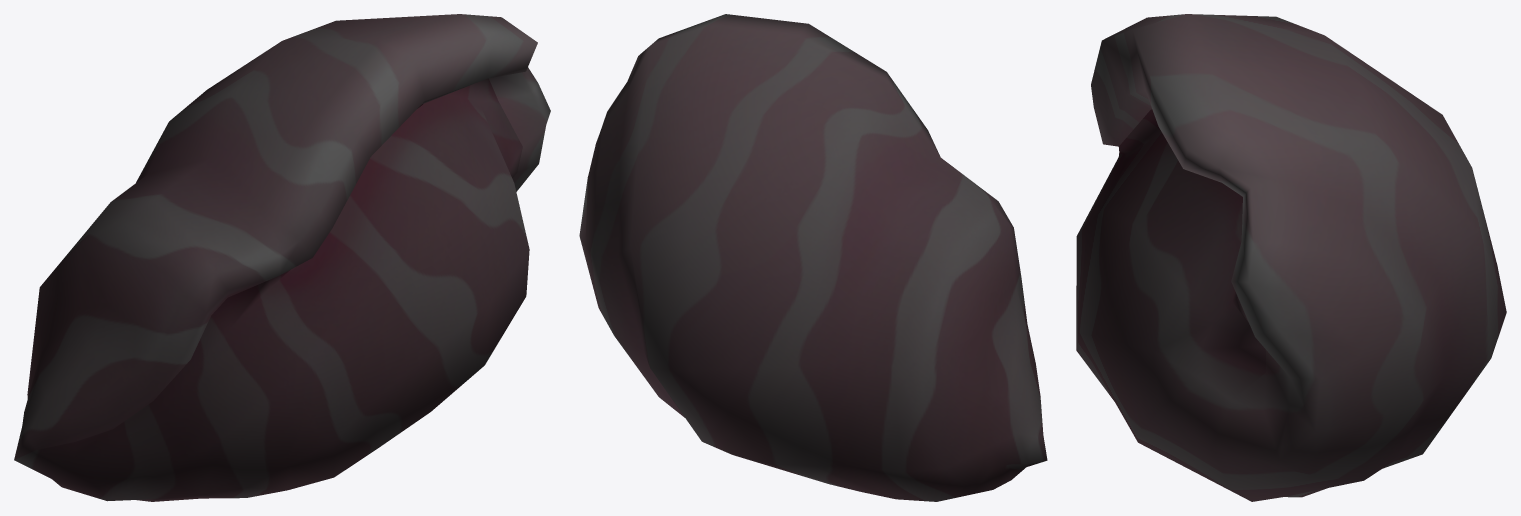
File: obj_harvest_resource_slimyclam.fbx
3 views of the same model, side by side, from view 1: azimuth 30°, elevation 25°; view 2: azimuth 150°, elevation 25°; view 3: azimuth 270°, elevation 25° (orthographic). The views are drawn at different scales.
Visible parts, largest first — view 1: obj_harvest_resource_slimyclam; view 2: obj_harvest_resource_slimyclam; view 3: obj_harvest_resource_slimyclam.
Boxes of the visible parts, x1=… form: obj_harvest_resource_slimyclam: x1=14, y1=14, x2=550, y2=501; obj_harvest_resource_slimyclam: x1=579, y1=14, x2=1047, y2=501; obj_harvest_resource_slimyclam: x1=1076, y1=14, x2=1506, y2=501.
Size of the model in its own units: 1.92 by 1.55 by 1.21.
